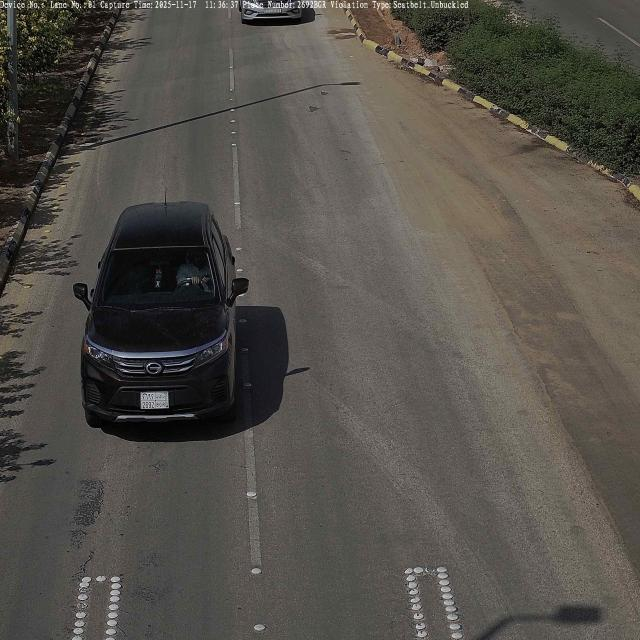person_without_seatbelt: (176, 250, 210, 291)
